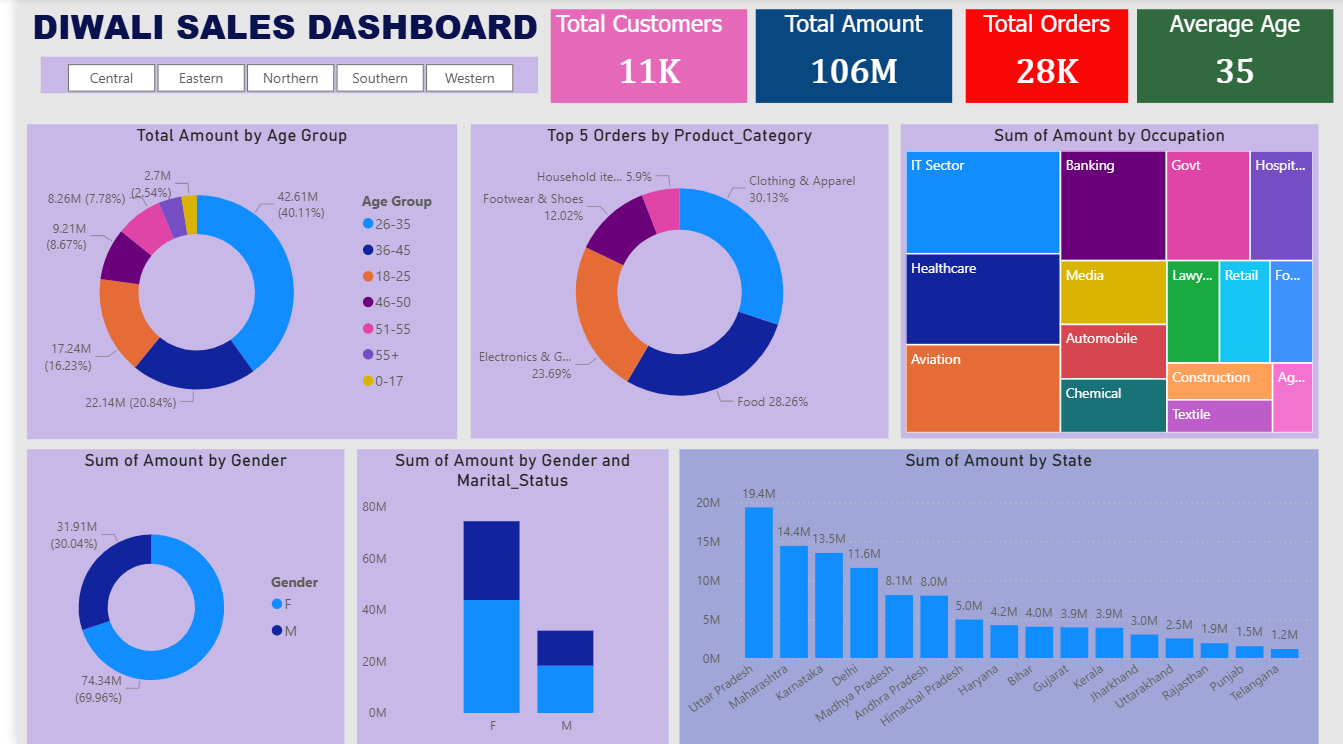

The dashboard page shown, as its layout file describes it:
{"tool":"powerbi","page":{"name":"Page 1","canvas":[1280,720],"ordinal":0},"visuals":[{"type":"textbox","box":[9.6,0,583.2,65.9],"z":0},{"type":"card","title":"Total Customers","fields":{"Values":["CountNonNull(Diwali Sales Data.User_ID)"]},"box":[514.6,11,189.4,90.6],"z":1000},{"type":"card","title":"Total Amount","fields":{"Values":["Sum(Diwali Sales Data.Amount)"]},"box":[713.6,11,189.4,90.6],"z":2000},{"type":"card","title":"Total Orders","fields":{"Values":["Sum(Diwali Sales Data.Orders)"]},"box":[915.3,11,156.4,90.6],"z":3000},{"type":"card","title":"Average Age","fields":{"Values":["Avg(Diwali Sales Data.Age)"]},"box":[1081.3,11,189.4,90.6],"z":4000},{"type":"donutChart","title":"Total Amount by Age Group","fields":{"Y":["Sum(Diwali Sales Data.Amount)"],"Category":["Diwali Sales Data.Age Group"]},"box":[9.7,121.9,415,304],"z":6000},{"type":"donutChart","title":"Top 5 Orders by Product_Category","fields":{"Category":["Diwali Sales Data.Product_Category"],"Y":["CountNonNull(Diwali Sales Data.Orders)"]},"box":[437.7,122.1,403.4,303.3],"z":7000},{"type":"treemap","fields":{"Values":["Sum(Diwali Sales Data.Amount)"],"Group":["Diwali Sales Data.Occupation"]},"box":[853,121.9,403,302.8],"z":8000},{"type":"donutChart","fields":{"Category":["Diwali Sales Data.Gender"],"Y":["Sum(Diwali Sales Data.Amount)"]},"box":[9.7,435.5,306.4,284.7],"z":9000},{"type":"columnChart","fields":{"Y":["Sum(Diwali Sales Data.Amount)"],"Category":["Diwali Sales Data.Gender"],"Series":["Diwali Sales Data.Marital_Status"]},"box":[328.2,435.5,300.4,284.7],"z":10000},{"type":"clusteredColumnChart","fields":{"Y":["Sum(Diwali Sales Data.Amount)"],"Category":["Diwali Sales Data.State"]},"box":[639.4,435.5,616.5,284.7],"z":11000},{"type":"slicer","fields":{"Values":["Diwali Sales Data.Zone"]},"box":[22.9,56.7,480.2,35],"z":11001}]}

Visuals, with their boxes in screenshot pixels (x1, y1, x2, y2), scaled from the page's 1280x720 canvas onto the 1343x744 screenshot:
textbox: (left=10, top=0, right=622, bottom=68)
"Total Customers" card: (left=540, top=11, right=739, bottom=105)
"Total Amount" card: (left=749, top=11, right=947, bottom=105)
"Total Orders" card: (left=960, top=11, right=1124, bottom=105)
"Average Age" card: (left=1135, top=11, right=1333, bottom=105)
"Total Amount by Age Group" donutChart: (left=10, top=126, right=446, bottom=440)
"Top 5 Orders by Product_Category" donutChart: (left=459, top=126, right=882, bottom=440)
treemap - Sum(Diwali Sales Data.Amount) x Diwali Sales Data.Occupation: (left=895, top=126, right=1318, bottom=439)
donutChart - Diwali Sales Data.Gender x Sum(Diwali Sales Data.Amount): (left=10, top=450, right=332, bottom=743)
columnChart - Sum(Diwali Sales Data.Amount) x Diwali Sales Data.Gender: (left=344, top=450, right=660, bottom=743)
clusteredColumnChart - Sum(Diwali Sales Data.Amount) x Diwali Sales Data.State: (left=671, top=450, right=1318, bottom=743)
slicer - Diwali Sales Data.Zone: (left=24, top=59, right=528, bottom=95)
